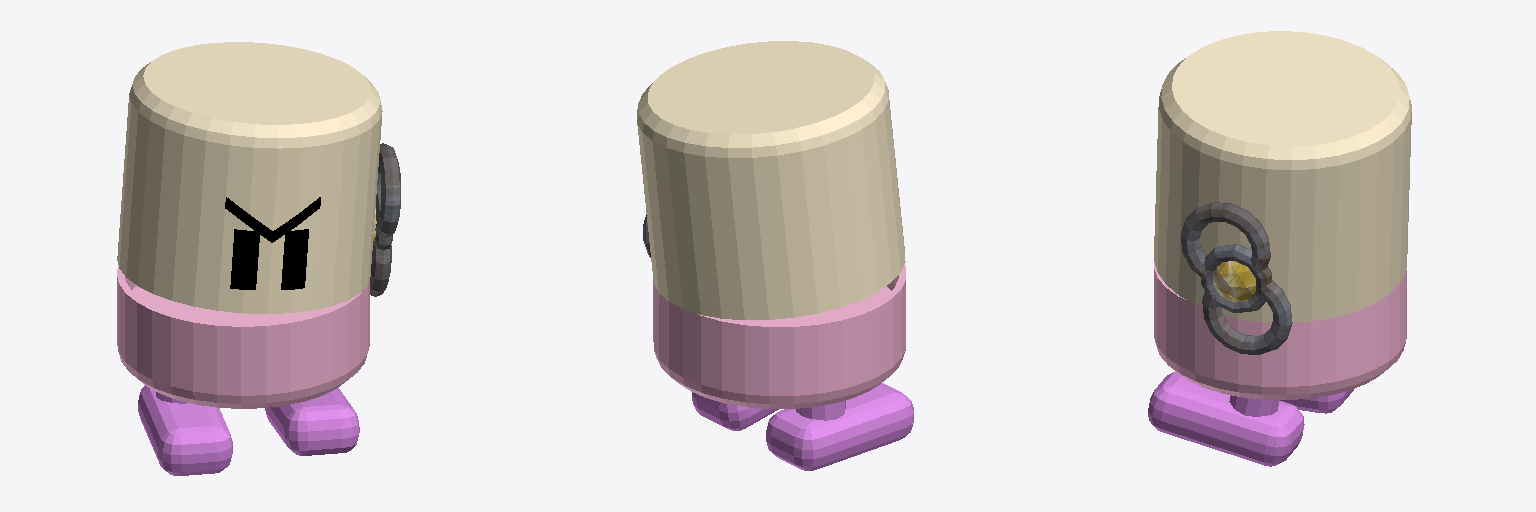
3 views of the same model, side by side, from view 1: azimuth 30°, elevation 25°; view 2: azimuth 150°, elevation 25°; view 3: azimuth 270°, elevation 25° (orthographic).
Visible parts, largest first — view 1: Head, Jaw, RightLeg, LeftLeg, WindupKey; view 2: Head, Jaw, RightLeg, LeftLeg; view 3: Head, Jaw, WindupKey, LeftLeg, RightLeg.
Part boxes in pixels (left/top/right/bottom): Head: left=117, top=42, right=382, bottom=313; Jaw: left=117, top=265, right=369, bottom=408; RightLeg: left=138, top=385, right=232, bottom=475; LeftLeg: left=265, top=387, right=359, bottom=455; WindupKey: left=370, top=143, right=400, bottom=296; Head: left=637, top=41, right=905, bottom=319; Jaw: left=653, top=264, right=905, bottom=408; RightLeg: left=766, top=383, right=913, bottom=470; LeftLeg: left=692, top=392, right=778, bottom=430; Head: left=1154, top=31, right=1411, bottom=322; Jaw: left=1154, top=262, right=1406, bottom=399; WindupKey: left=1181, top=202, right=1292, bottom=354; LeftLeg: left=1148, top=371, right=1304, bottom=466; RightLeg: left=1280, top=389, right=1353, bottom=413.
Size of the model in its own units: 111 by 156 by 104.
6 materials, 2 textured.